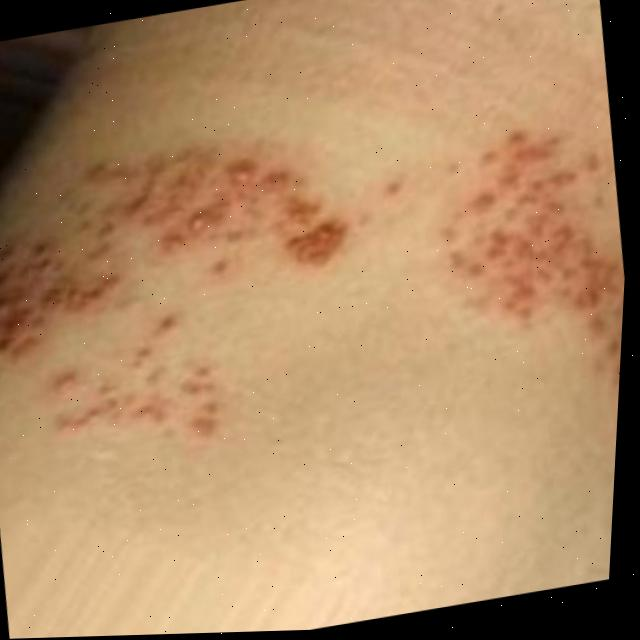Shingles: (0, 118, 377, 461), (420, 131, 632, 434)
